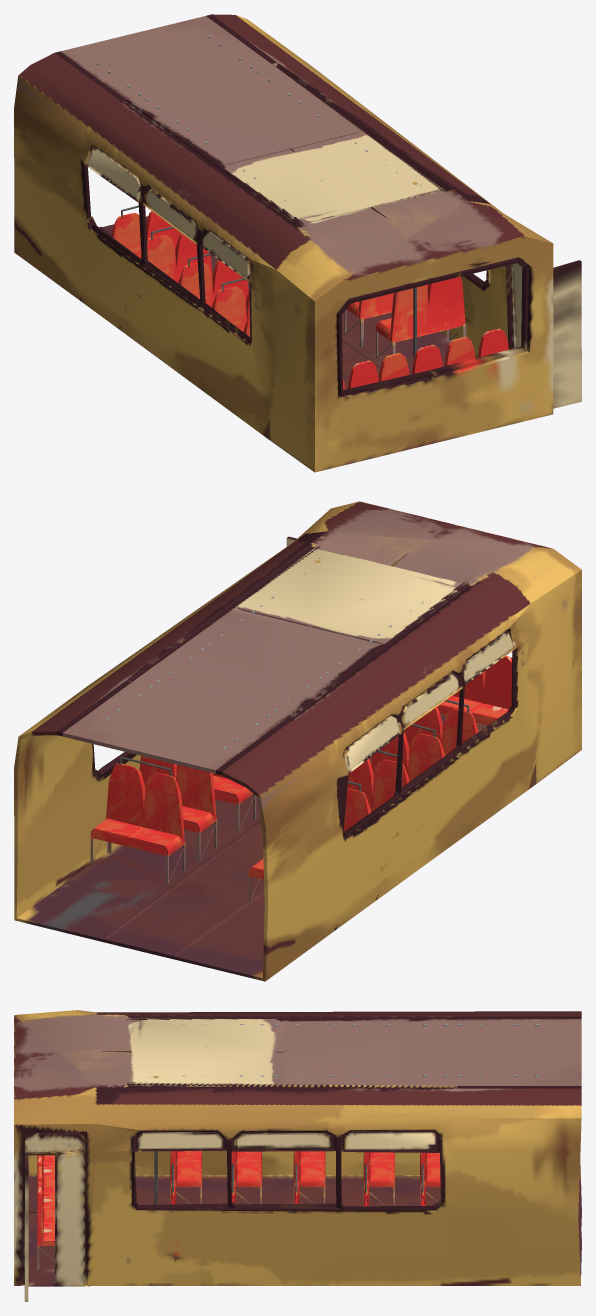
File: Busterminado.fbx
3 views of the same model, one above another, from view 1: azimuth 30°, elevation 25°; view 2: azimuth 150°, elevation 25°; view 3: azimuth 270°, elevation 25° (orthographic). The views are drawn at different scales.
Parts seen in each view (by area): view 1: Cube.009, sillanormal de atras.002; view 2: Cube.009, sillanormal de atras.002; view 3: Cube.009, sillanormal de atras.002, ceiling lamp.002.
Boxes of the visible parts, x1,y1,x2,y2 form: Cube.009: (14,14,581,472); sillanormal de atras.002: (111,205,508,389); Cube.009: (14,501,581,981); sillanormal de atras.002: (90,655,511,903); Cube.009: (14,1010,581,1301); sillanormal de atras.002: (37,1151,440,1270); ceiling lamp.002: (153,1024,539,1204).
Size of the model in its own units: 43.87 by 29.27 by 82.54.
Materials: 2 (1 with a texture image).
